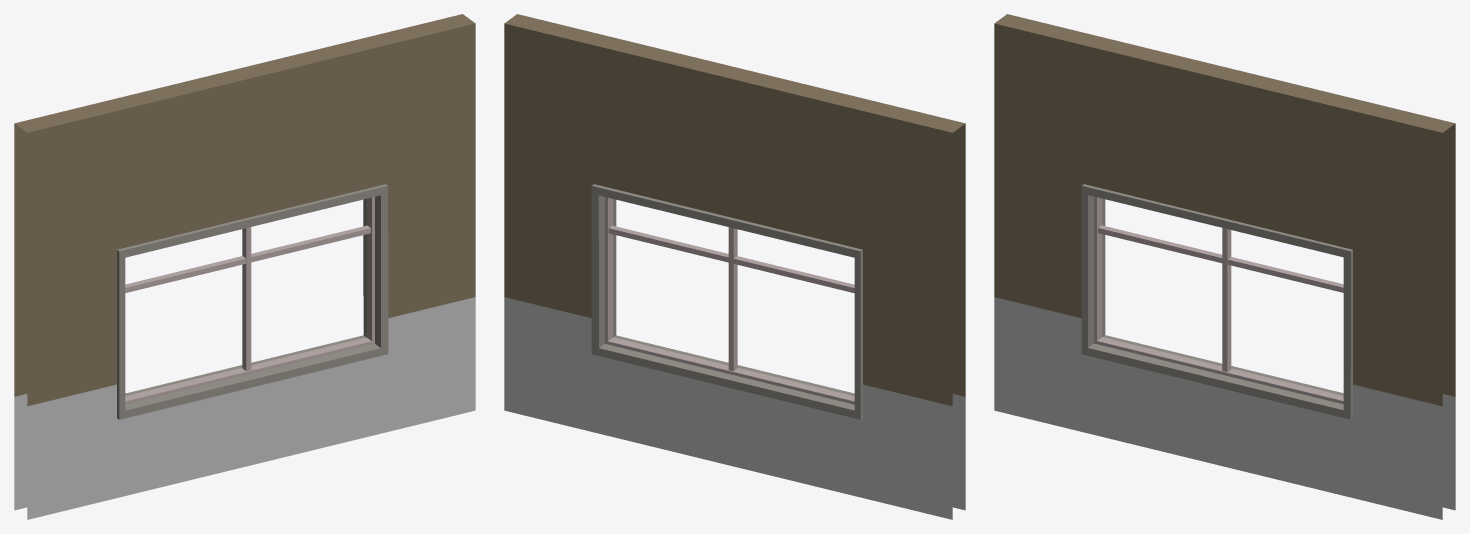
File: SM_Wall_Window_B_400.FBX
3 views of the same model, side by side, from view 1: azimuth 30°, elevation 25°; view 2: azimuth 150°, elevation 25°; view 3: azimuth 330°, elevation 25° (orthographic).
Parts seen in each view (by area): view 1: SM_Wall_Window_B_400; view 2: SM_Wall_Window_B_400; view 3: SM_Wall_Window_B_400.
Part boxes in pixels (x1,y1,x2,y2): SM_Wall_Window_B_400: [14, 14, 475, 519]; SM_Wall_Window_B_400: [504, 14, 965, 519]; SM_Wall_Window_B_400: [994, 14, 1455, 519].
Bounding box in the file's own units: 400 × 27.27 × 330.
